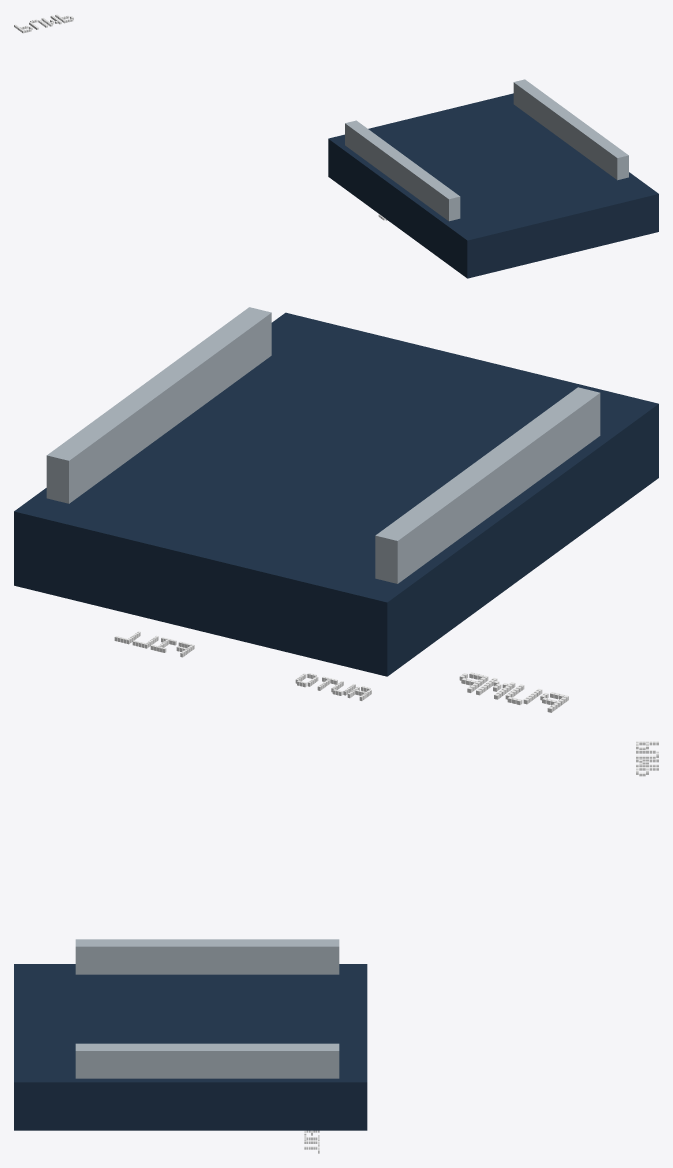
The model's file is MotionReady_Tank_Control_Panel.obj.
3 views of the same model, one above another, from view 1: azimuth 30°, elevation 25°; view 2: azimuth 150°, elevation 25°; view 3: azimuth 270°, elevation 25° (orthographic). The views are drawn at different scales.
Visible parts, largest first — view 1: Tank_Control_Panel, Tank_Panel_Brackets, Tank_Pump_Label; view 2: Tank_Control_Panel, Tank_Panel_Brackets, Tank_Pump_Label, Tank_Button_Labels; view 3: Tank_Control_Panel, Tank_Panel_Brackets, Tank_Pump_Label.
Part boxes in pixels (x1,y1,x2,y2): Tank_Control_Panel: (328, 93, 658, 278); Tank_Panel_Brackets: (345, 79, 628, 221); Tank_Pump_Label: (14, 14, 73, 33); Tank_Control_Panel: (14, 312, 658, 676); Tank_Panel_Brackets: (46, 307, 600, 583); Tank_Pump_Label: (114, 631, 568, 712); Tank_Button_Labels: (295, 673, 371, 700); Tank_Control_Panel: (14, 964, 367, 1130); Tank_Panel_Brackets: (75, 939, 339, 1078); Tank_Pump_Label: (304, 741, 658, 1153).
Bounding box in the file's own units: 1020 × 375 × 1150.
